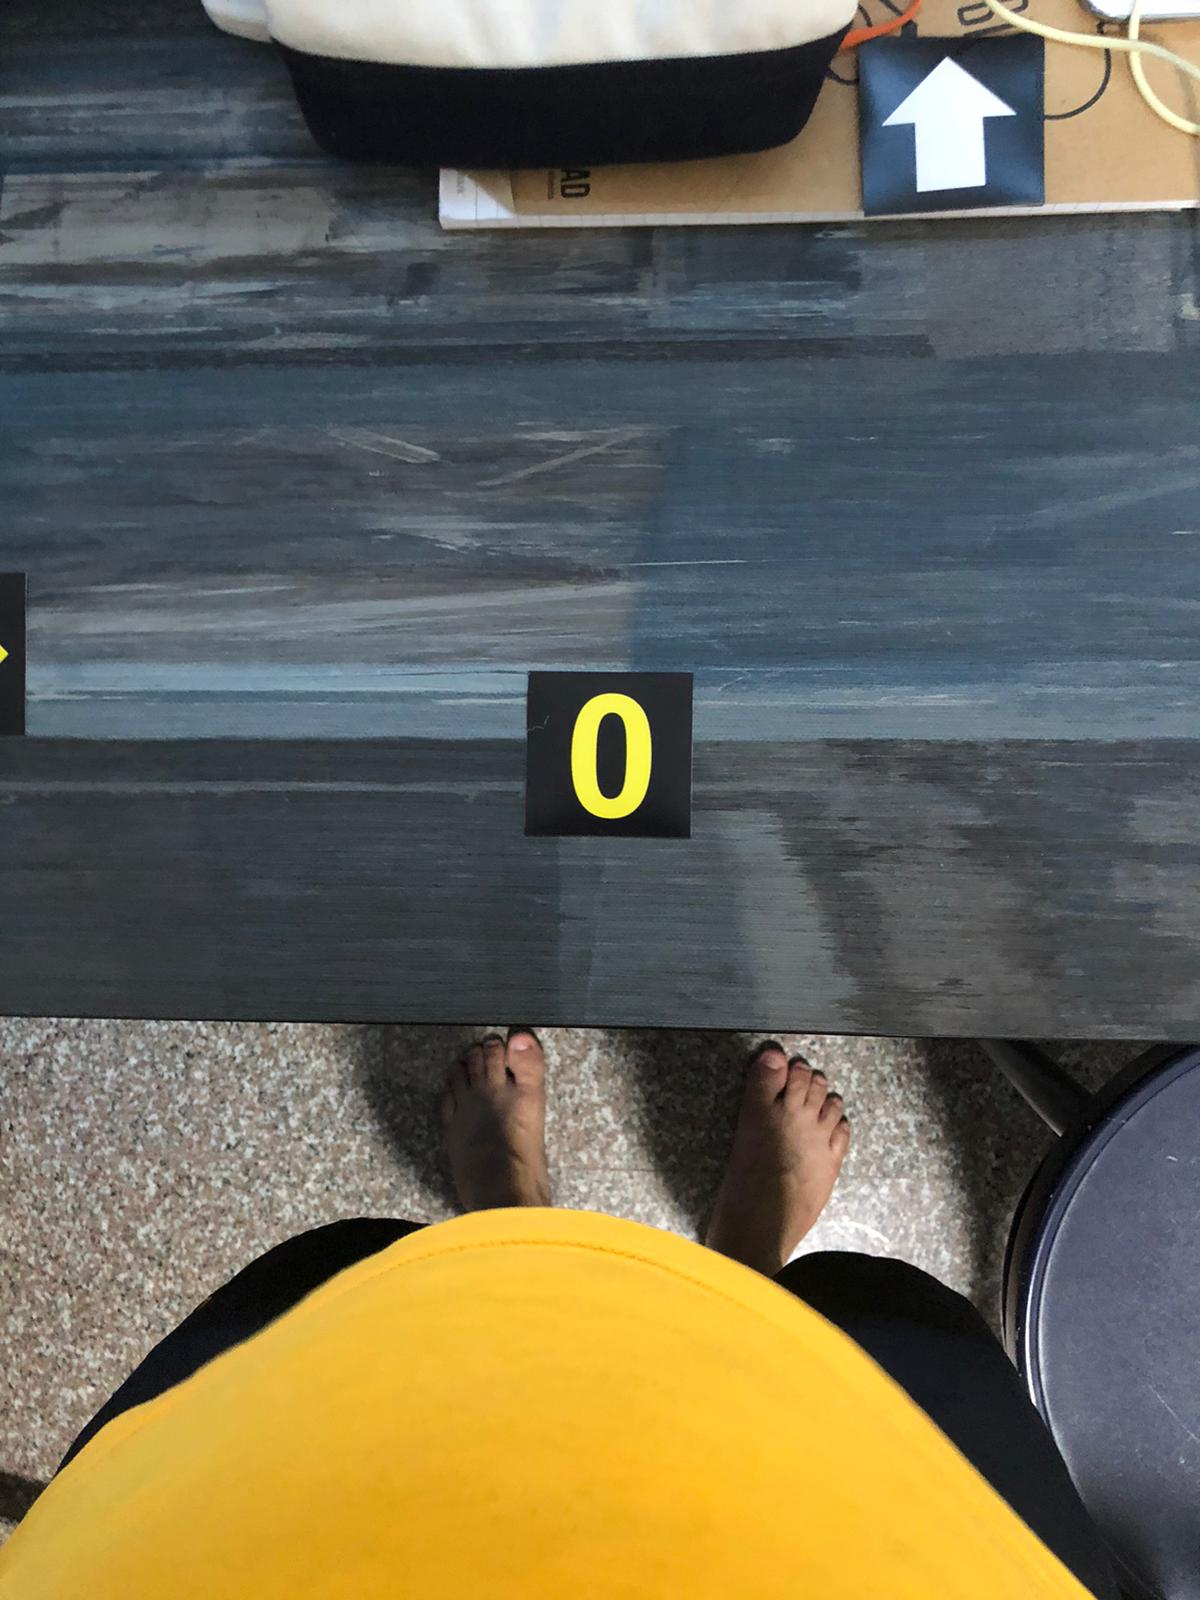Number 0: (524, 674, 691, 843)
Top Arrow: (853, 50, 1035, 212)
